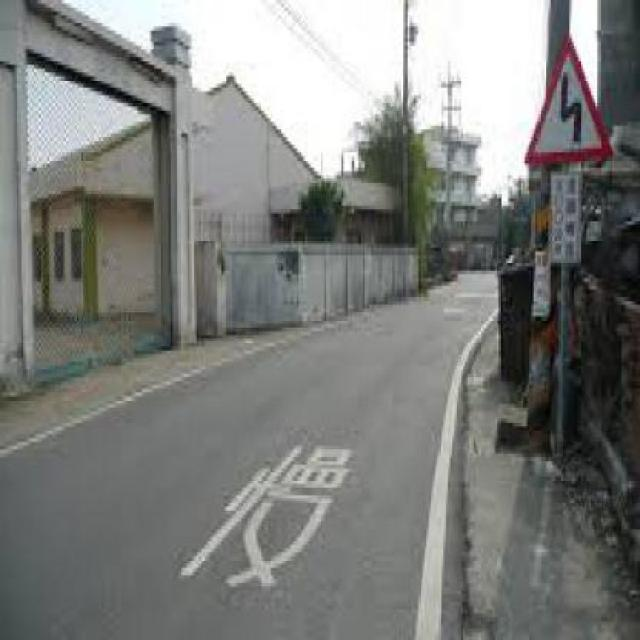warn_double_curve: (522, 35, 616, 164)
